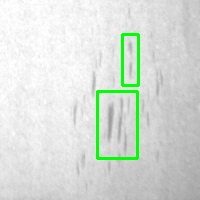inclusion: (97, 91, 137, 158), (122, 34, 138, 85)
